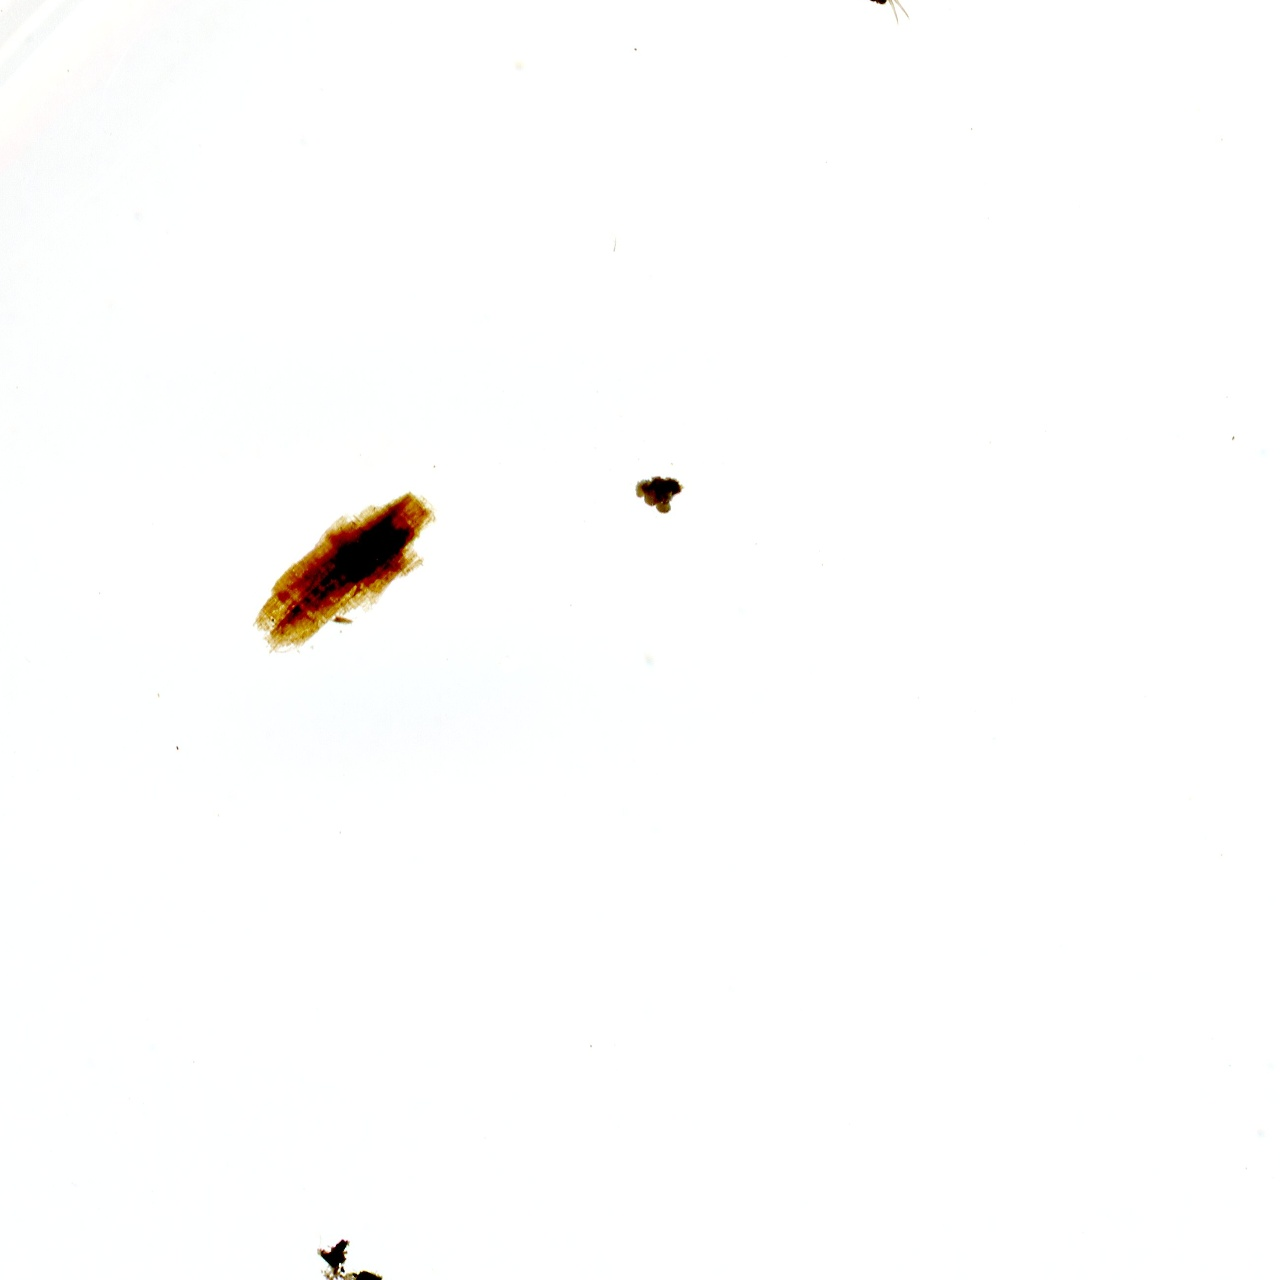arthropod: (824, 0, 912, 32)
